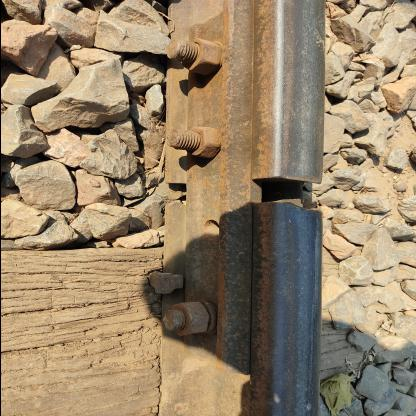Defective: (218, 53, 362, 335), (143, 11, 248, 350)
